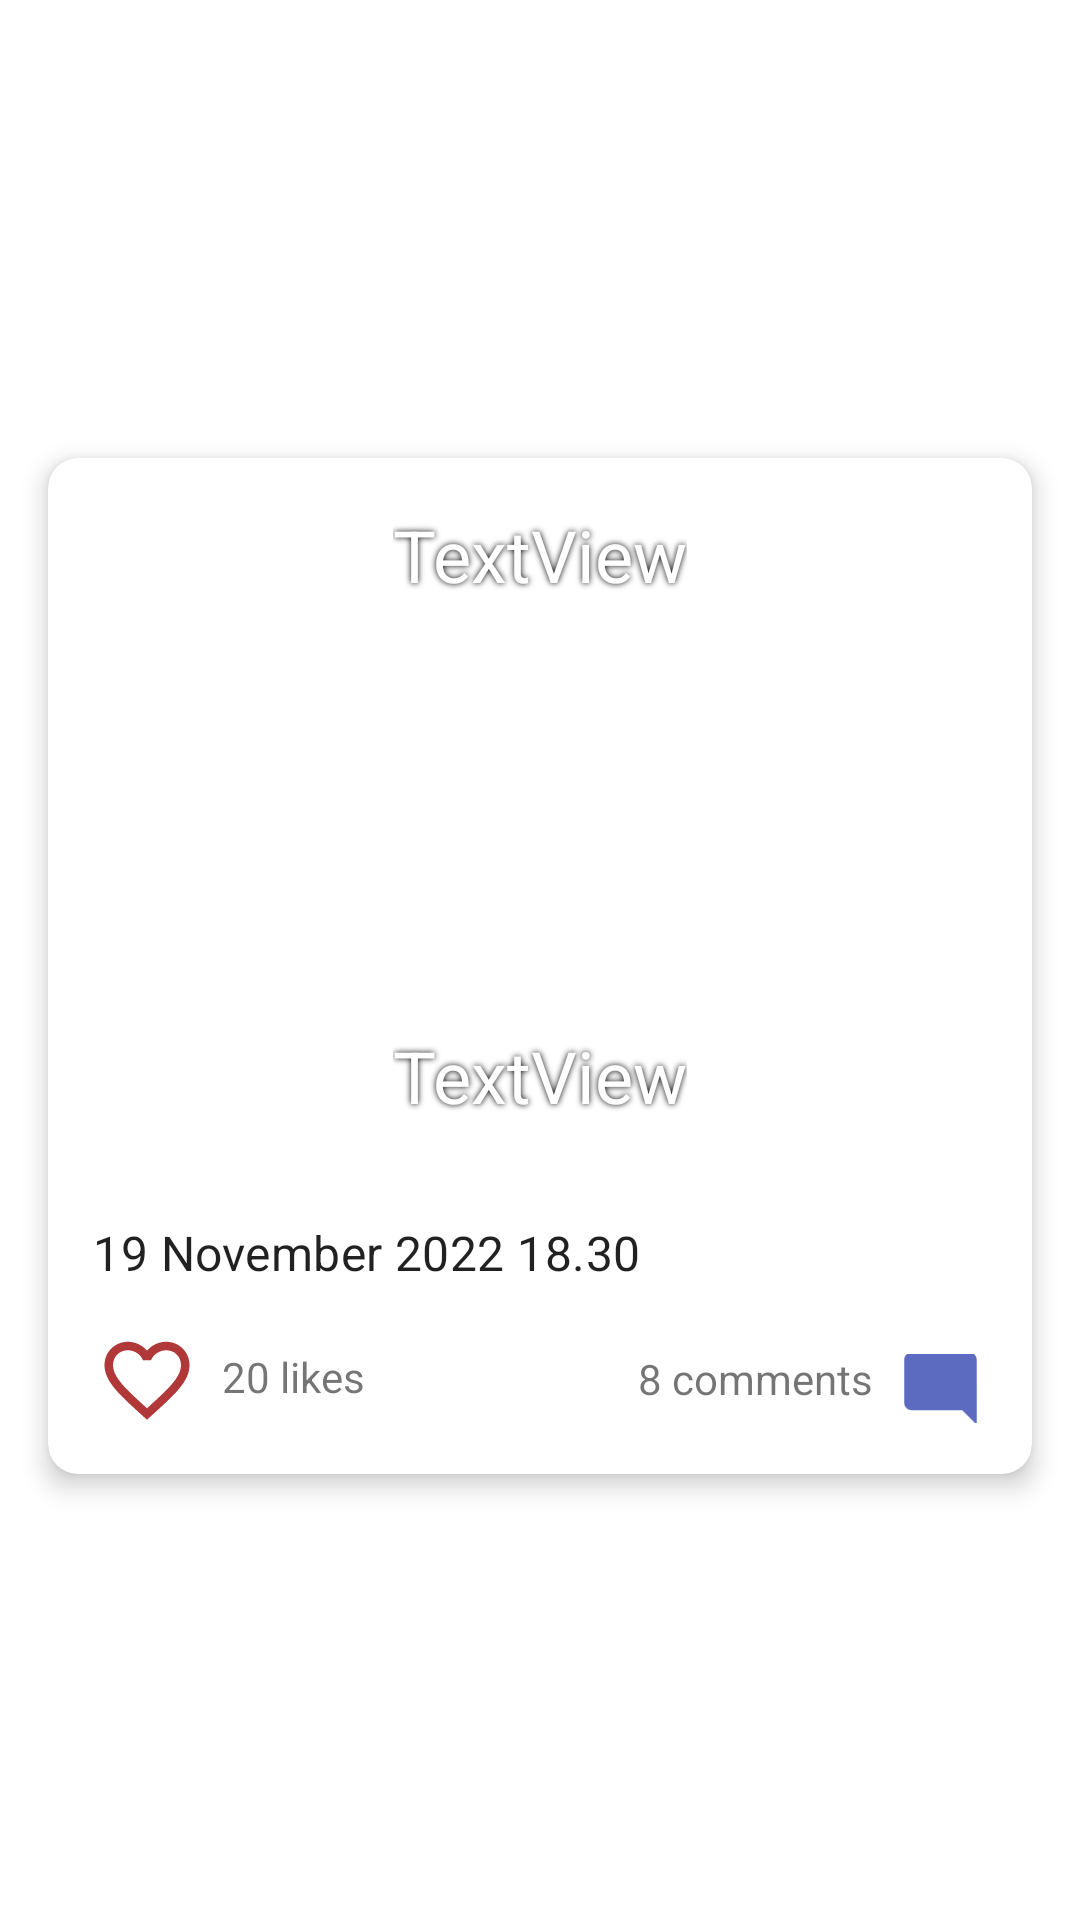

Icon bounding boxes for this 1080px×1920px phone screenshot, format detection(x1, y1, x2, y2):
favorite border: detection(104, 1341, 190, 1420)
mode comment: detection(904, 1354, 977, 1423)
